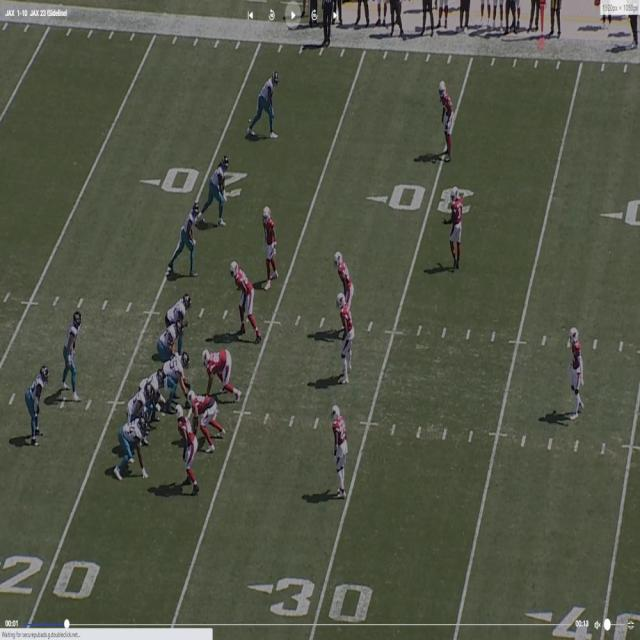center: (170, 349, 190, 392)
db: (569, 325, 585, 415), (331, 407, 346, 500), (449, 193, 464, 269), (438, 79, 452, 158)
lb: (339, 294, 355, 378), (262, 200, 277, 284), (179, 412, 194, 483), (339, 255, 355, 304)
qb: (63, 310, 82, 402)
skill: (204, 151, 231, 231), (119, 414, 149, 479), (173, 204, 199, 272), (28, 364, 48, 446), (255, 74, 278, 138)
